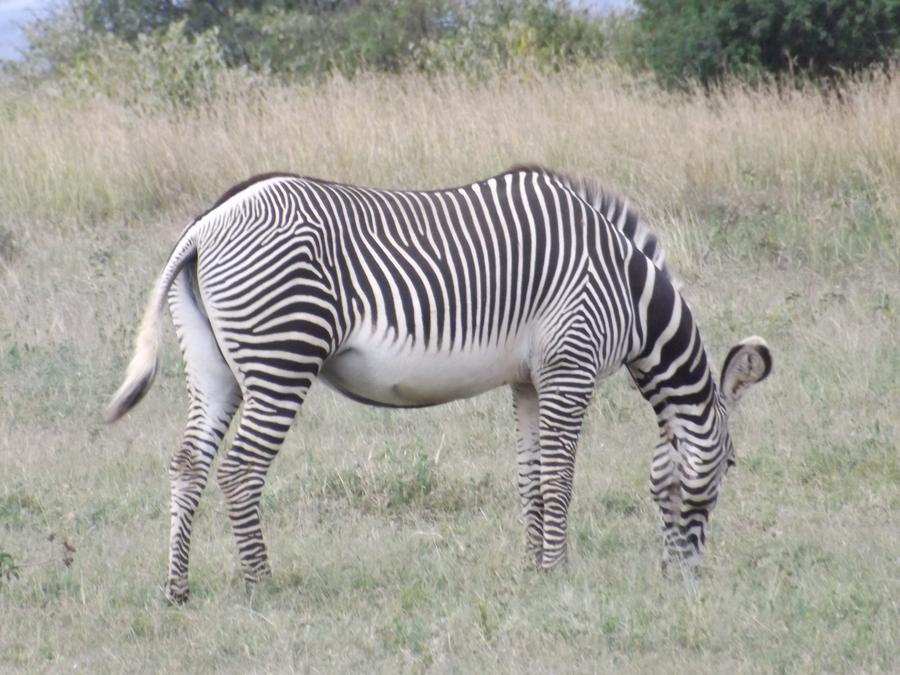zebra_grevys: (145, 147, 597, 384)
